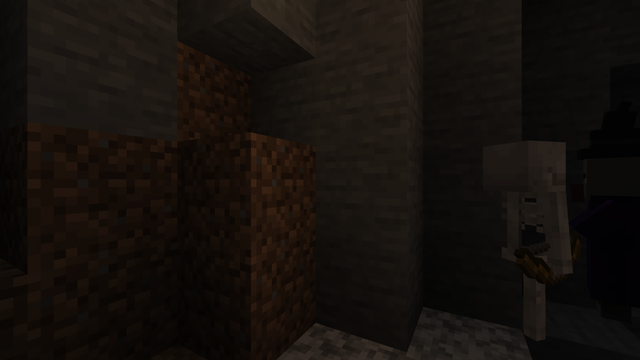sorcieres: (580, 150, 638, 323)
squelettes: (487, 139, 568, 354)
